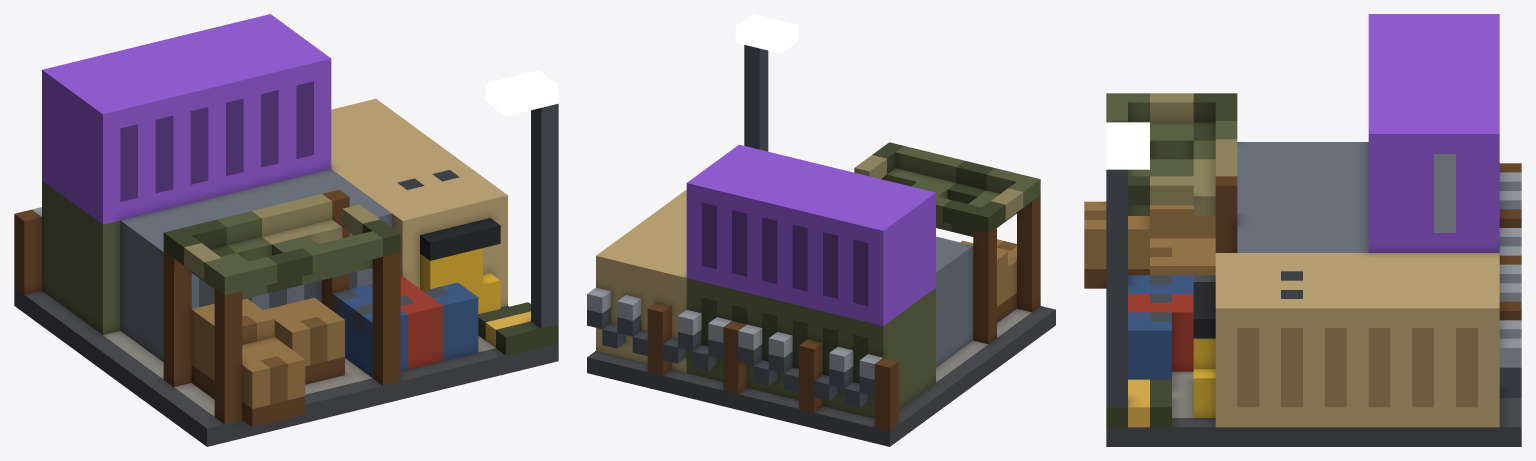
The model's file is cm_depot_4.glb.
3 views of the same model, side by side, from view 1: azimuth 30°, elevation 25°; view 2: azimuth 150°, elevation 25°; view 3: azimuth 270°, elevation 25° (orthographic). The views are drawn at different scales.
Parts seen in each view (by area): view 1: cm_depot_4_body; view 2: cm_depot_4_body; view 3: cm_depot_4_body.
Boxes of the visible parts, x1,y1,x2,y2 form: cm_depot_4_body: (14, 14, 558, 446); cm_depot_4_body: (587, 14, 1055, 446); cm_depot_4_body: (1084, 14, 1521, 446).
Size of the model in its own units: 1.25 by 0.9375 by 1.25.
Materials: 1 (1 with a texture image).
